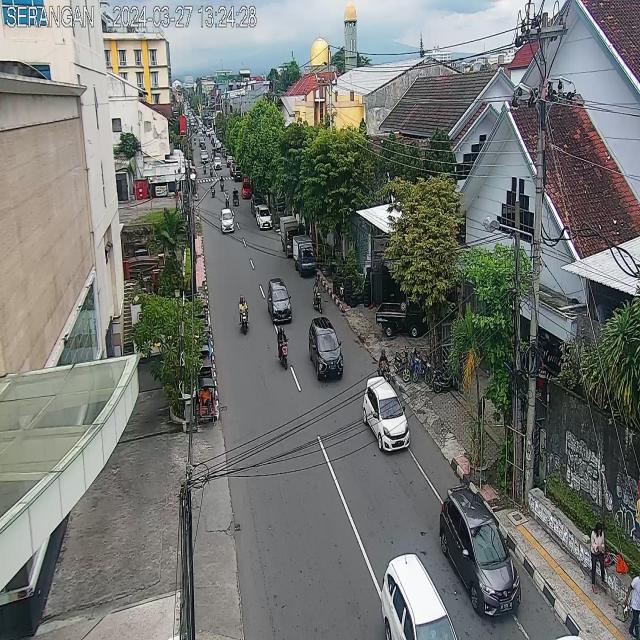car: (440, 484, 523, 615), (380, 550, 457, 640), (362, 376, 411, 452), (309, 316, 343, 381), (268, 278, 292, 324), (256, 204, 272, 230), (220, 208, 235, 234), (252, 193, 264, 217), (241, 182, 252, 199)
motorcycle: (275, 324, 291, 373), (377, 347, 392, 385), (238, 294, 250, 336), (312, 277, 323, 314), (224, 190, 230, 208), (210, 180, 216, 198), (220, 175, 224, 191)
truck: (293, 235, 316, 276), (280, 216, 299, 257)
